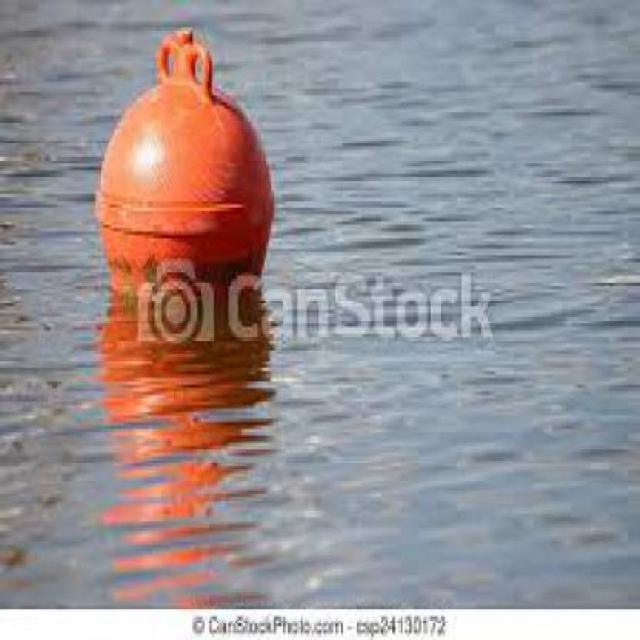buoy: (89, 11, 283, 283)
